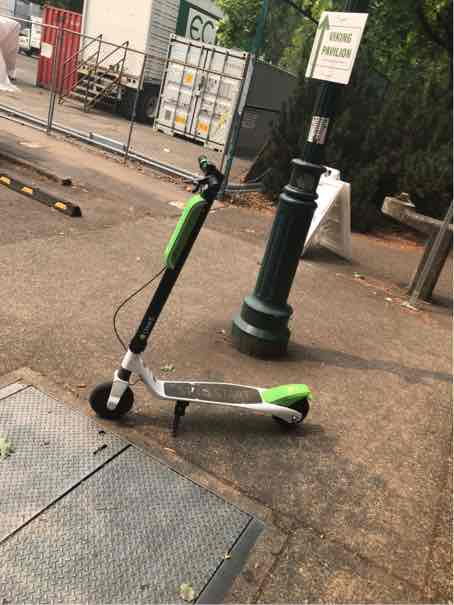scooter: (90, 140, 323, 439)
